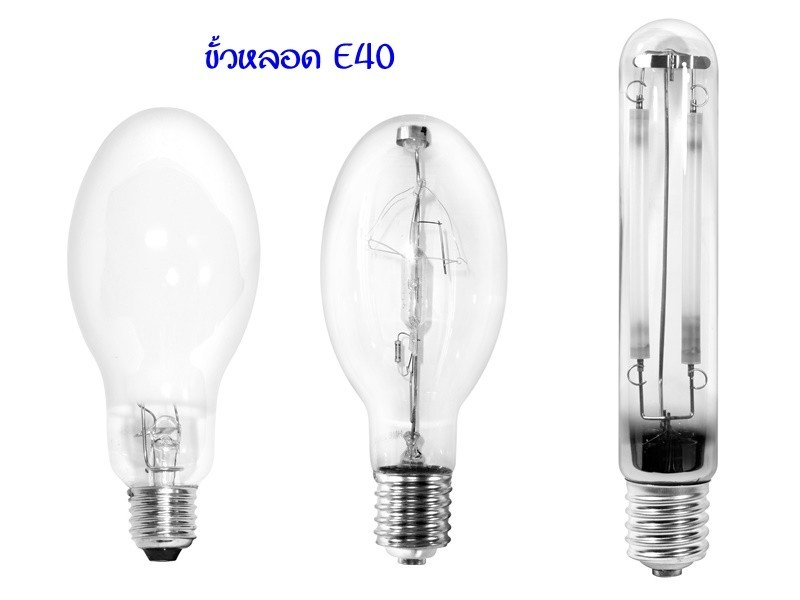Light_bulb: (61, 98, 273, 574), (313, 109, 515, 573), (606, 11, 726, 582)
